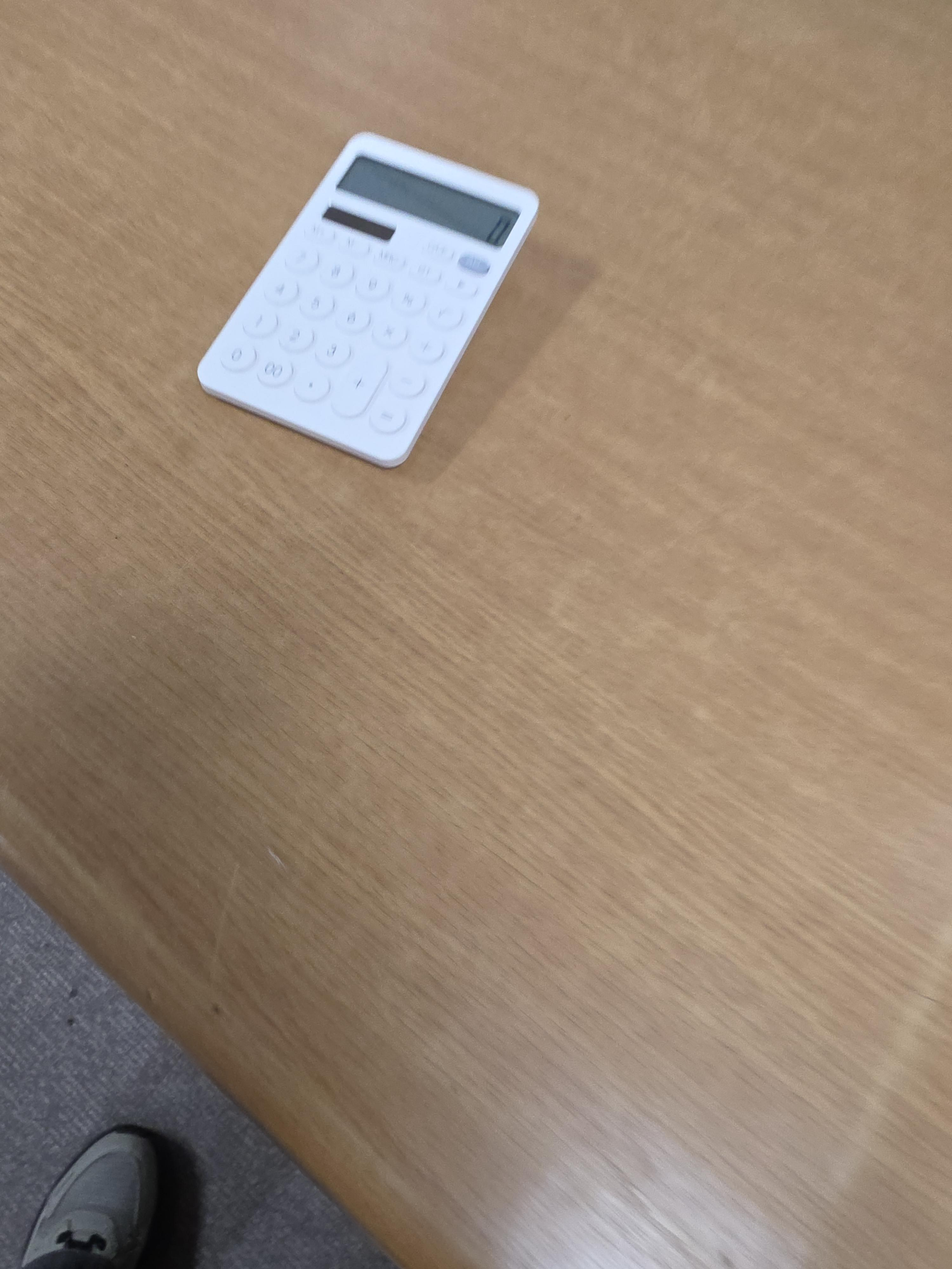calculator: (197, 130, 541, 470)
